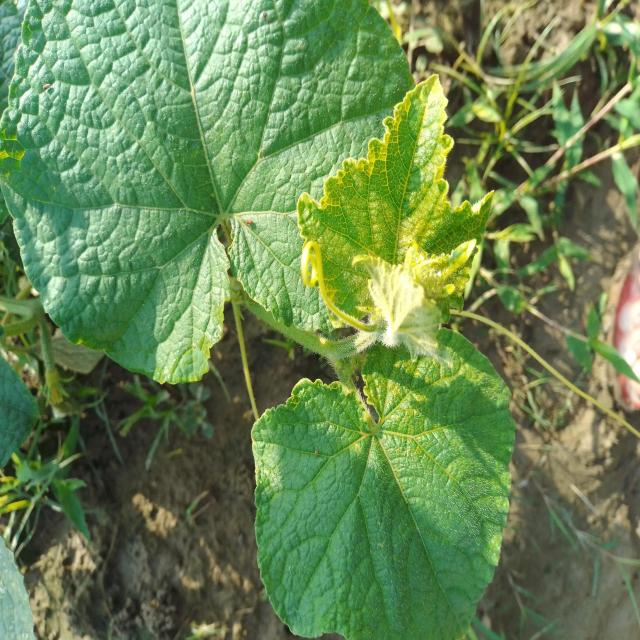cucumber_healthy: (0, 0, 296, 390), (247, 328, 522, 640), (282, 70, 501, 325)
